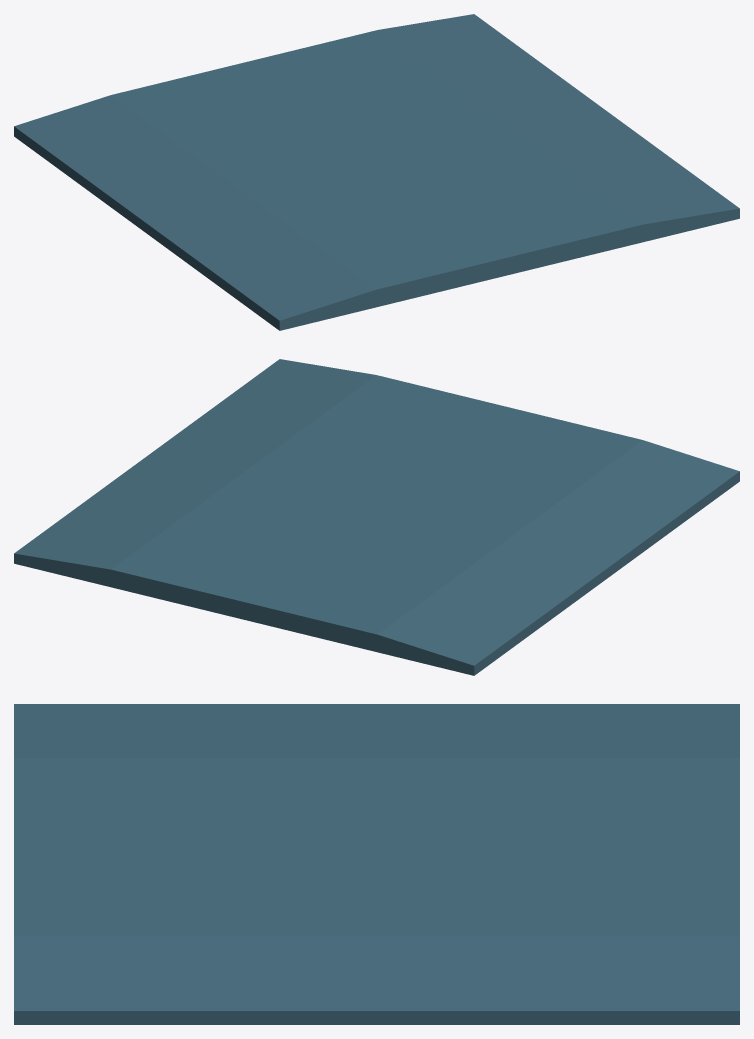
Rendered from bus-threshold-deck.lod1.glb.
3 views of the same model, one above another, from view 1: azimuth 30°, elevation 25°; view 2: azimuth 150°, elevation 25°; view 3: azimuth 270°, elevation 25° (orthographic). The views are drawn at different scales.
Visible parts, largest first — view 1: module-batch-painted-metal; view 2: module-batch-painted-metal; view 3: module-batch-painted-metal.
Part boxes in pixels (box(x1,y1,x2,y2)): module-batch-painted-metal: box(14, 14, 739, 330); module-batch-painted-metal: box(14, 359, 739, 675); module-batch-painted-metal: box(14, 704, 739, 1024).
Bounding box in the file's own units: 0.95 × 0.035 × 0.95.
